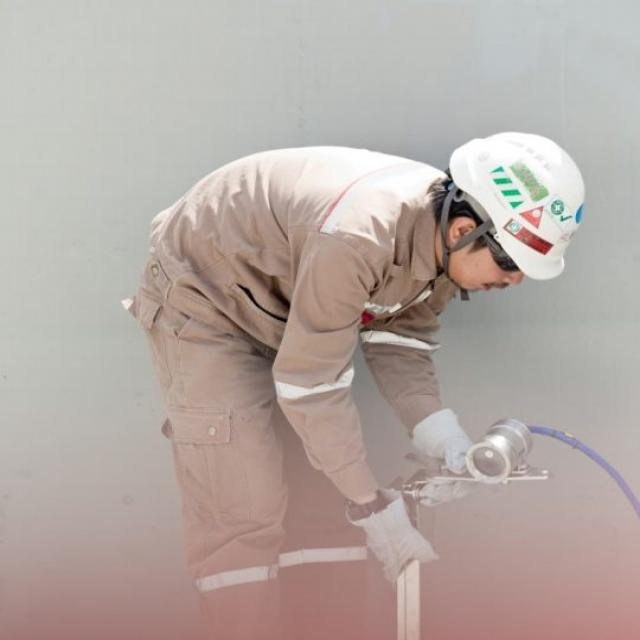Reflective-Jacket: (185, 135, 447, 432)
Safety-Helmet: (444, 125, 592, 280)
